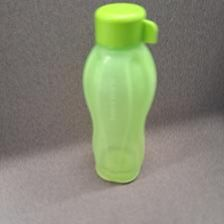bottle: (83, 2, 158, 182)
